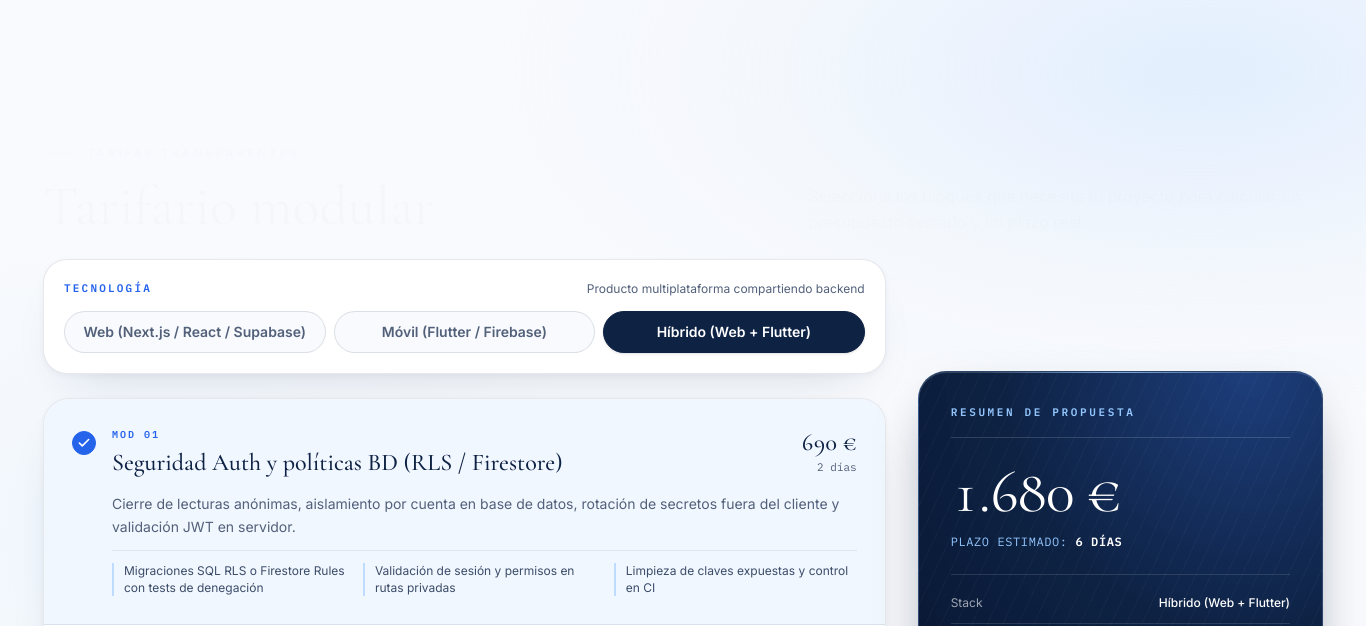
ModularCalculator & RequestModal › preselects sanitized modules from ?modules=auth_rls,invalid_id,auth_rls,flutter_mobile (1.680 €, 6 días, both) and drops flutter_mobile when switching to web (6
The image size is (1366, 626).
Check: the text with test id "calculator-total-price" reads "1.680 €", box [951,456,1120,528]
Check: the element with test id "calculator-timeline" shows "6 días", box [951,534,1122,549]
Click the button "Web (Next.js / React / Supabase)" at [195, 332], box [64,311,326,353]
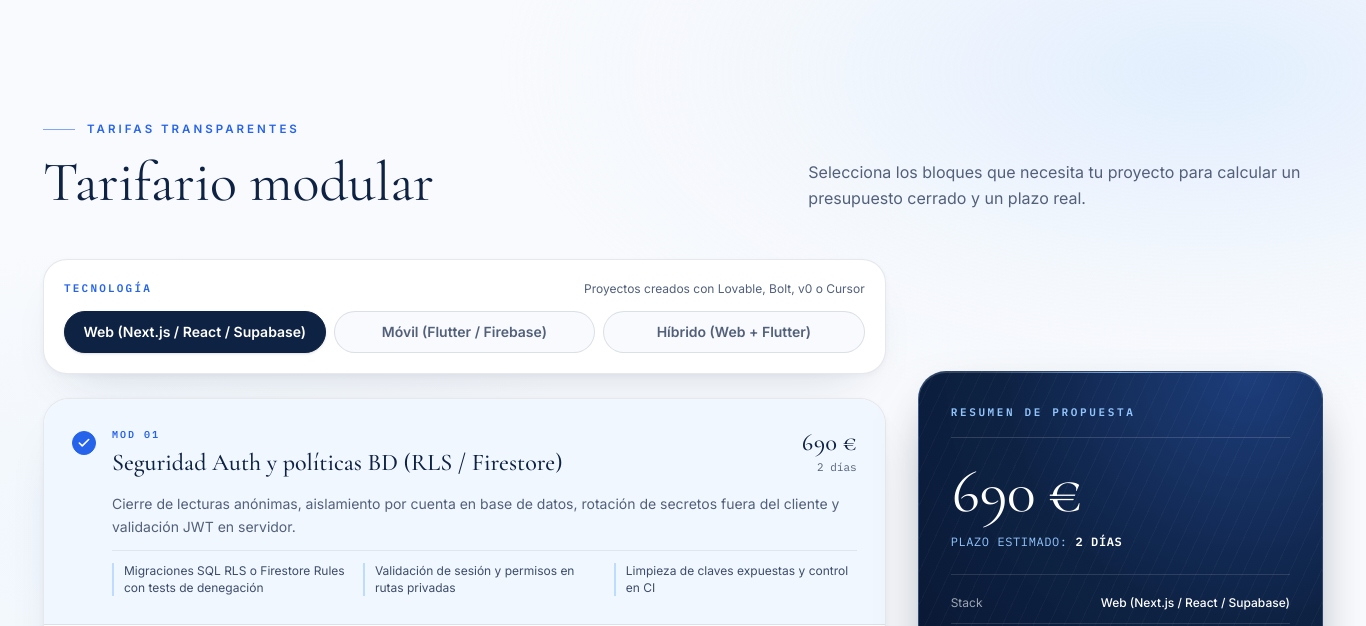
Check: the text with test id "calculator-total-price" reads "690 €", box [951,456,1081,528]
Check: the element with test id "calculator-timeline" shows "2 días", box [951,534,1122,549]
